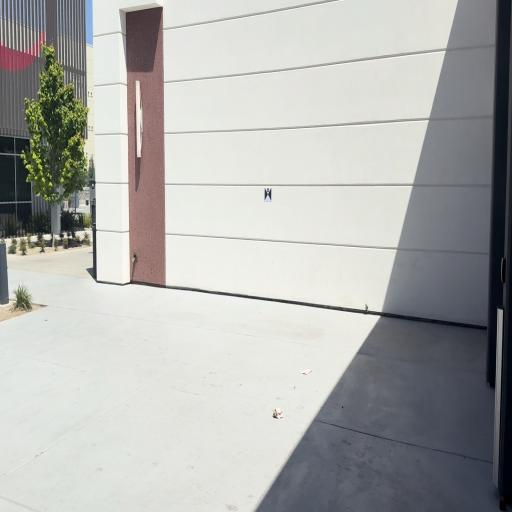target0: (264, 186, 271, 202)
